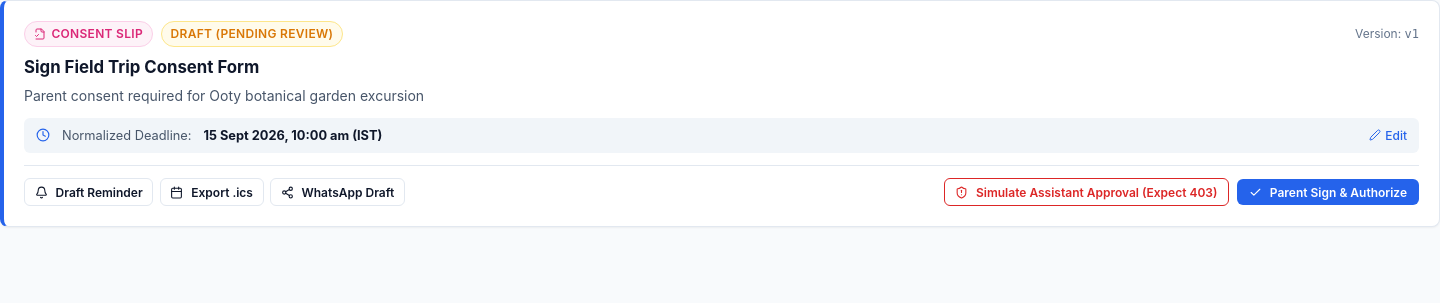
it: Schoolbag Frontend Core Workflow & Guardrails › handles simulated assistant approval rejection with HTTP 403 error banner
Click the button "Simulate Assistant Approval (Expect 403)": (1086, 192) [944,178,1229,206]
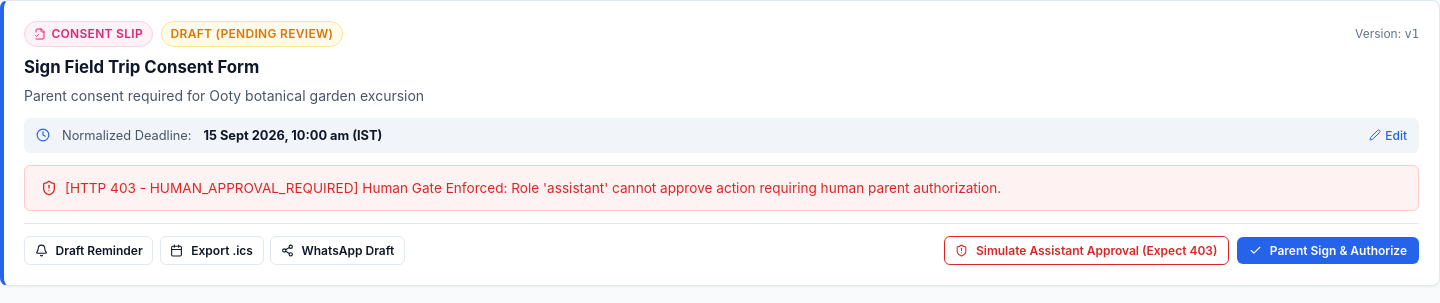
expect the text "HTTP 403 - HUMAN_APPROVAL_REQUIRED" is shown: met, box [65,180,1001,196]
